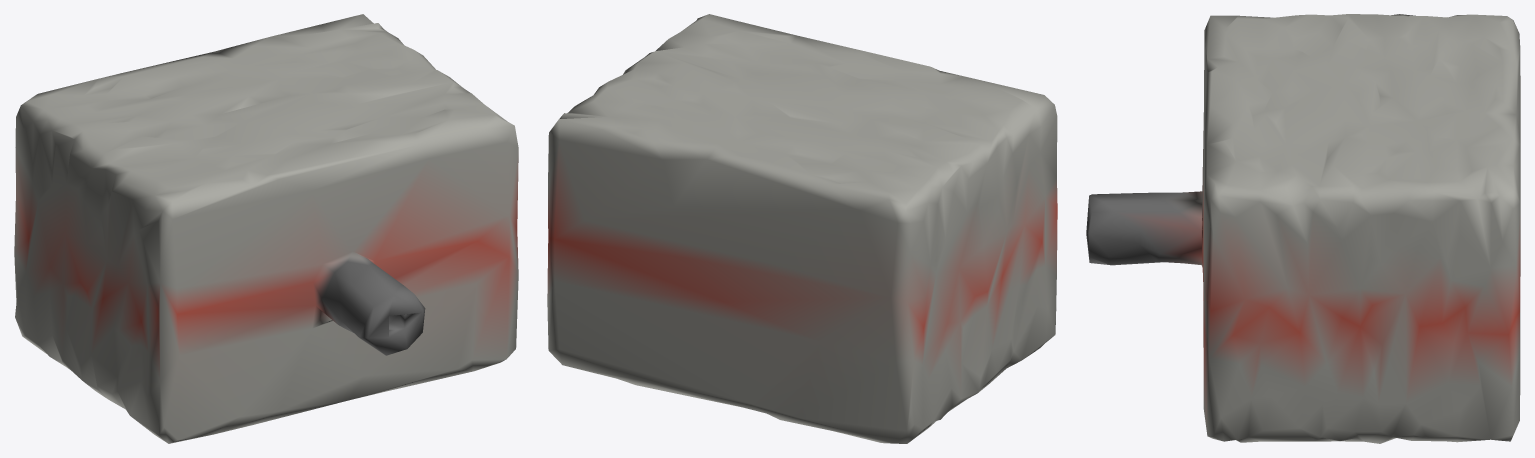
File: sample-hull-lod1.glb
The picture shows the model from 3 angles, left to right: view 1: azimuth 30°, elevation 25°; view 2: azimuth 150°, elevation 25°; view 3: azimuth 270°, elevation 25°; orthographic projection. The views are drawn at different scales.
Parts seen in each view (by area): view 1: Part_Torso; view 2: Part_Torso; view 3: Part_Torso.
Boxes of the visible parts, box(x1,y1,x2,y2) form: Part_Torso: box(14, 14, 518, 443); Part_Torso: box(547, 14, 1057, 443); Part_Torso: box(1086, 14, 1520, 443).
Size of the model in its own units: 2.4 by 1.56 by 2.37.
